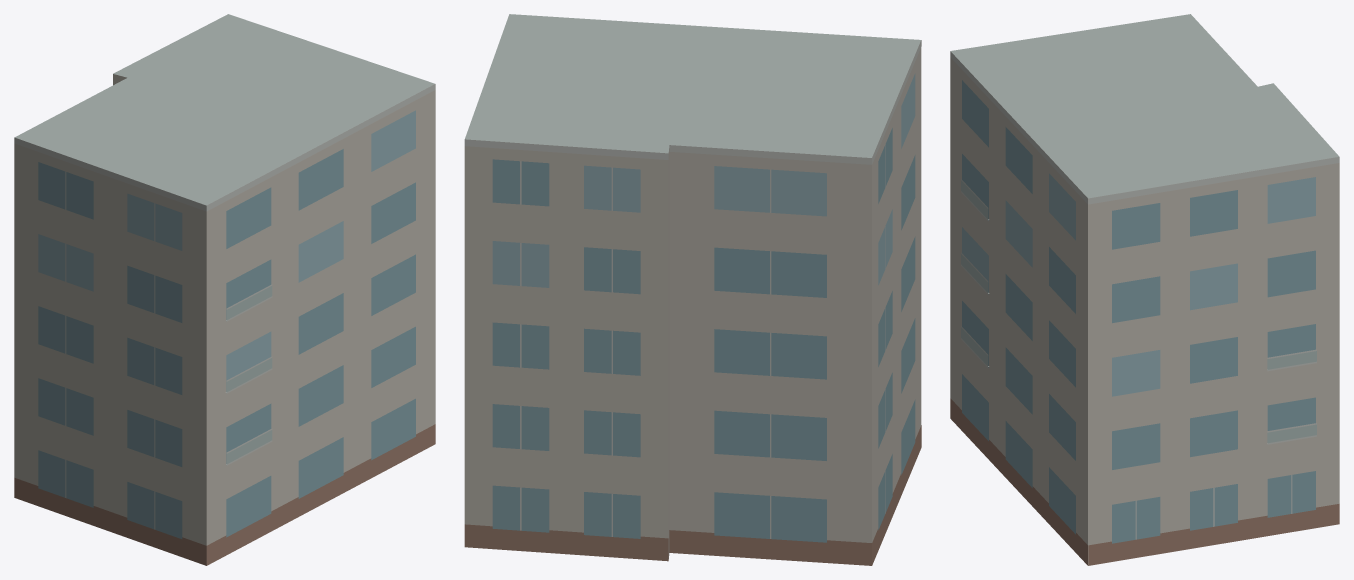
Rendered from survey-upis-32851560.glb.
3 views of the same model, side by side, from view 1: azimuth 30°, elevation 25°; view 2: azimuth 150°, elevation 25°; view 3: azimuth 270°, elevation 25° (orthographic). The views are drawn at different scales.
Parts seen in each view (by area): view 1: survey-upis-32851560.tmp; view 2: survey-upis-32851560.tmp; view 3: survey-upis-32851560.tmp.
Part boxes in pixels (x1,y1,x2,y2): survey-upis-32851560.tmp: (14, 14, 435, 565); survey-upis-32851560.tmp: (464, 14, 921, 565); survey-upis-32851560.tmp: (950, 14, 1339, 565).
Size of the model in its own units: 15.84 by 14.7 by 14.13.
